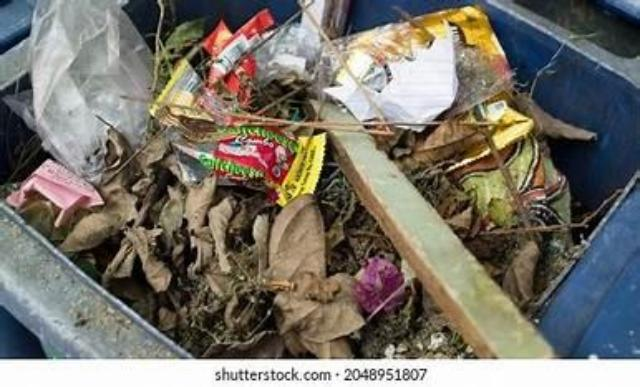Garbage: (1, 0, 586, 364)
Plastic_Bag: (30, 0, 153, 184)
Plastic_wraper: (150, 60, 326, 206), (346, 6, 511, 111), (203, 9, 275, 108)
contaminated_waste: (145, 0, 354, 137), (179, 126, 331, 203)
